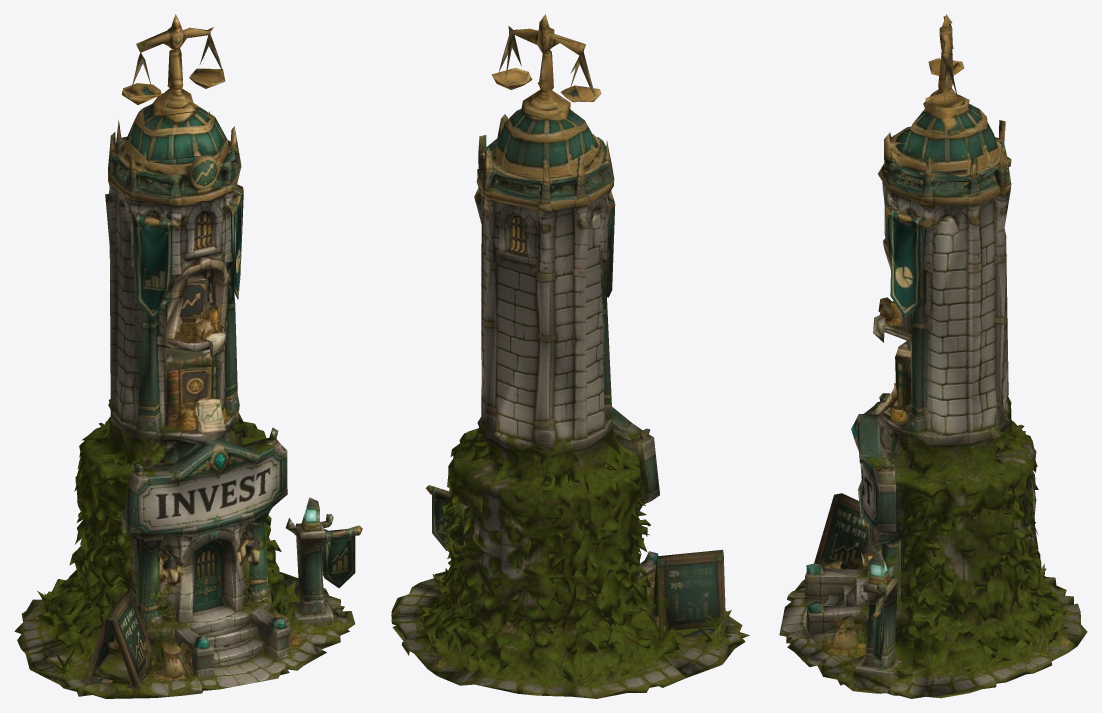
Rendered from life-invest.glb.
3 renders of one model, left to right at view 1: azimuth 30°, elevation 25°; view 2: azimuth 150°, elevation 25°; view 3: azimuth 270°, elevation 25°, orthographic. The views are drawn at different scales.
Parts seen in each view (by area): view 1: Mesh1.0; view 2: Mesh1.0; view 3: Mesh1.0.
Part boxes in pixels (x1,y1,x2,y2): Mesh1.0: [14, 14, 362, 698]; Mesh1.0: [391, 14, 749, 698]; Mesh1.0: [779, 14, 1087, 698].
Bounding box in the file's own units: 1.02 × 1.9 × 0.8684.
Materials: 1 (1 with a texture image).
